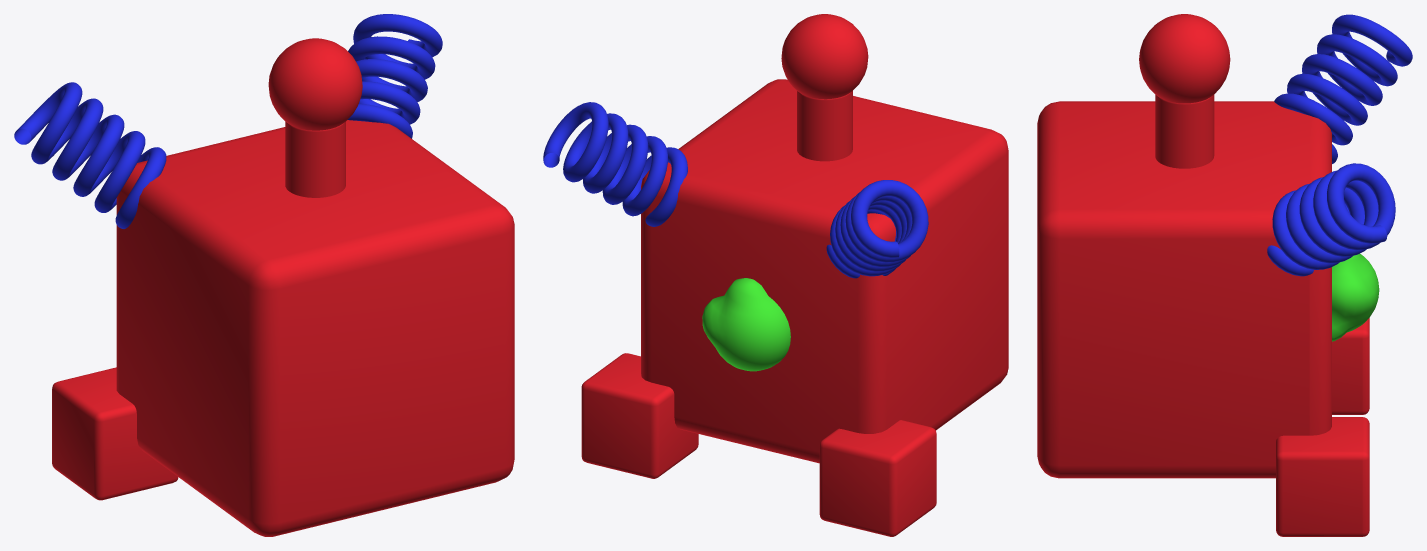
The model's file is cells.fbx.
3 renders of one model, left to right at view 1: azimuth 30°, elevation 25°; view 2: azimuth 150°, elevation 25°; view 3: azimuth 270°, elevation 25°, orthographic. The views are drawn at different scales.
Visible parts, largest first — view 1: 001_Main, HP_1, 001_Main.001, Circle, Circle.001; view 2: 001_Main, 001_Main.001, 001_Main.002, Circle.001, HP_1, Circle, heal; view 3: 001_Main, HP_1, 001_Main.002, Circle.001, Circle, 001_Main.001, heal.
Boxes of the visible parts, x1=… form: 001_Main: x1=116, y1=120, x2=514, y2=536; HP_1: x1=268, y1=38, x2=362, y2=197; 001_Main.001: x1=52, y1=367, x2=178, y2=500; Circle: x1=14, y1=82, x2=166, y2=228; Circle.001: x1=347, y1=14, x2=442, y2=138; 001_Main: x1=641, y1=79, x2=1008, y2=463; 001_Main.001: x1=819, y1=420, x2=936, y2=536; 001_Main.002: x1=581, y1=353, x2=698, y2=478; Circle.001: x1=543, y1=102, x2=687, y2=226; HP_1: x1=781, y1=14, x2=868, y2=161; Circle: x1=826, y1=180, x2=928, y2=278; heal: x1=702, y1=278, x2=790, y2=371; 001_Main: x1=1037, y1=101, x2=1331, y2=478; HP_1: x1=1139, y1=14, x2=1230, y2=168; 001_Main.002: x1=1276, y1=417, x2=1369, y2=536; Circle.001: x1=1267, y1=163, x2=1395, y2=276; Circle: x1=1274, y1=14, x2=1412, y2=163; 001_Main.001: x1=1332, y1=318, x2=1369, y2=414; heal: x1=1332, y1=253, x2=1379, y2=341.
Bounding box in the file's own units: 308 × 330 × 255.
